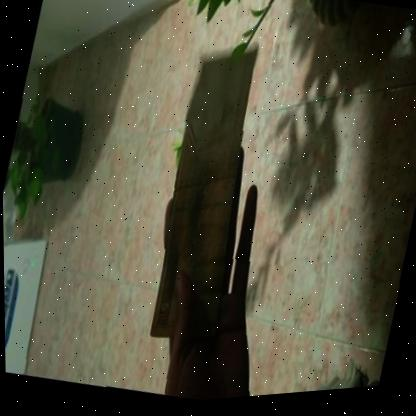vef_back: (135, 36, 279, 354)
